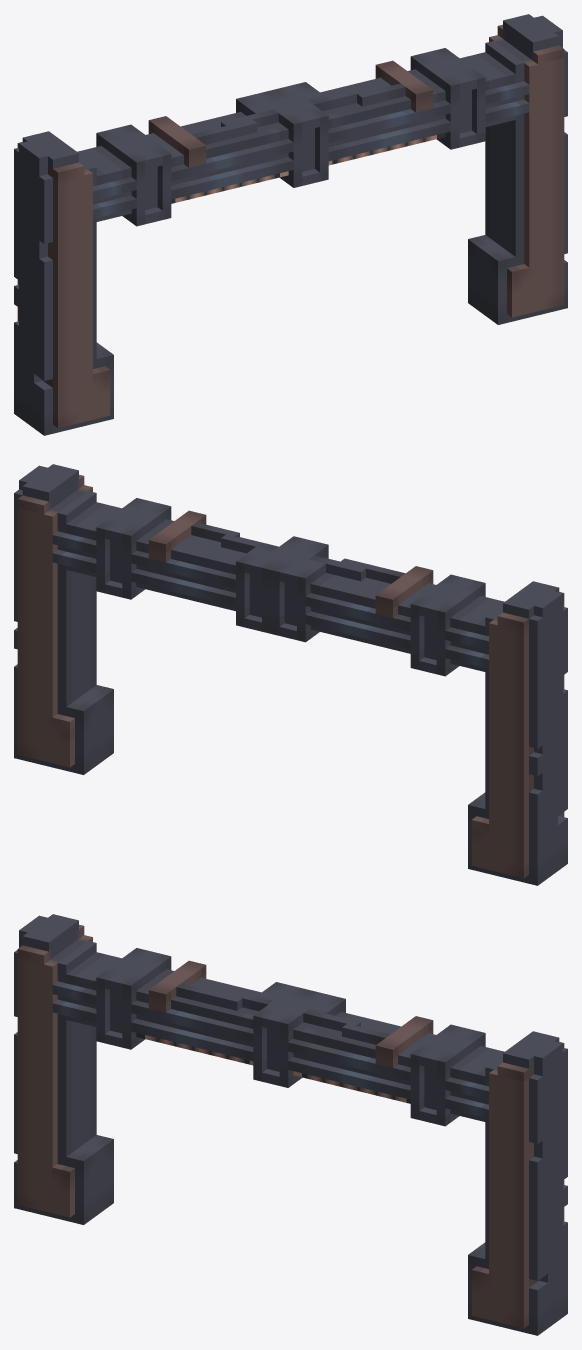
Rendered from Gate.fbx.
3 renders of one model, top to bottom at view 1: azimuth 30°, elevation 25°; view 2: azimuth 150°, elevation 25°; view 3: azimuth 330°, elevation 25°, orthographic.
Visible parts, largest first — view 1: Gate; view 2: Gate; view 3: Gate.
Boxes of the visible parts, x1,y1,x2,y2 form: Gate: [14, 14, 567, 435]; Gate: [14, 464, 567, 885]; Gate: [14, 914, 567, 1335].
Size of the model in its own units: 600 by 300 by 80.
Materials: 1 (1 with a texture image).
